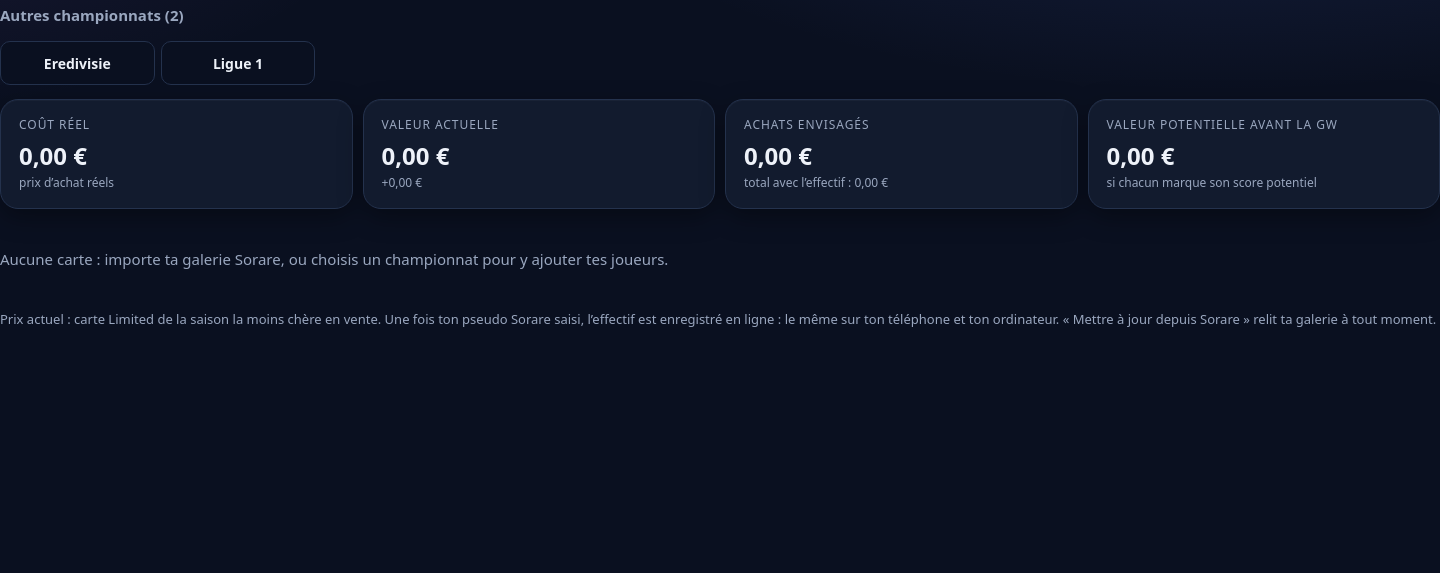
Mon effectif › club puis joueurs cochés, prix d’achat, totaux, enregistrement dans le navigateur
Click the button "Eredivisie": (77, 63) [0,41,155,85]
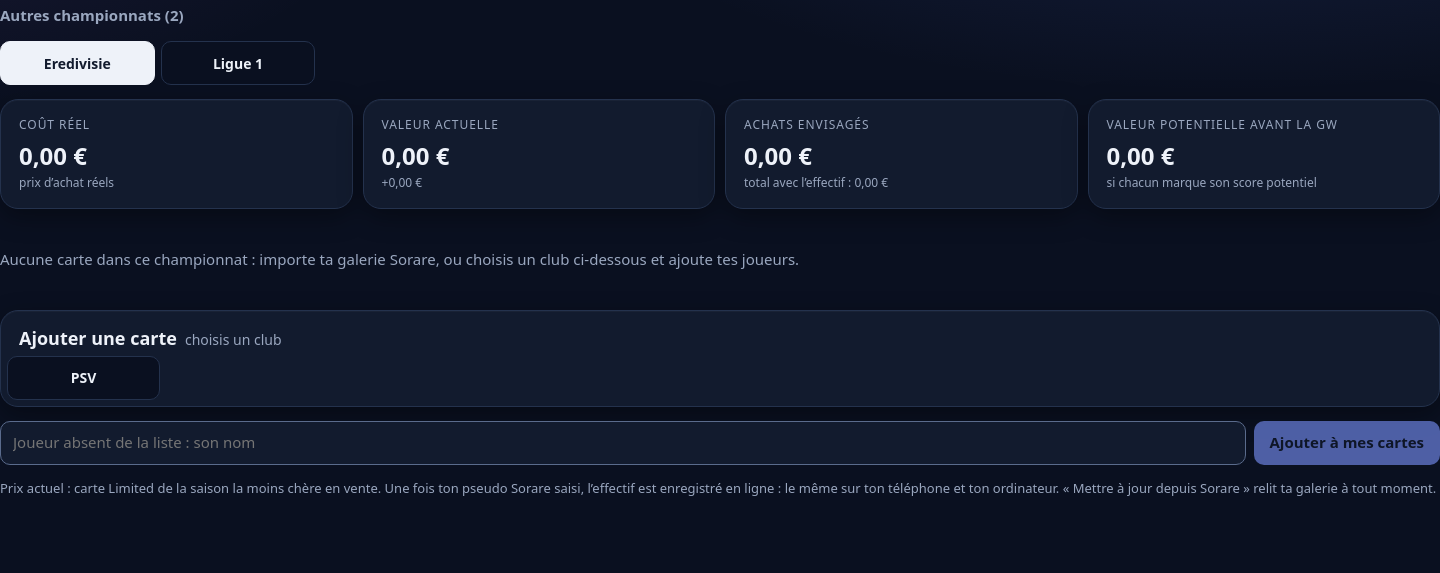
Click the button "PSV": (84, 378) [7,356,160,400]
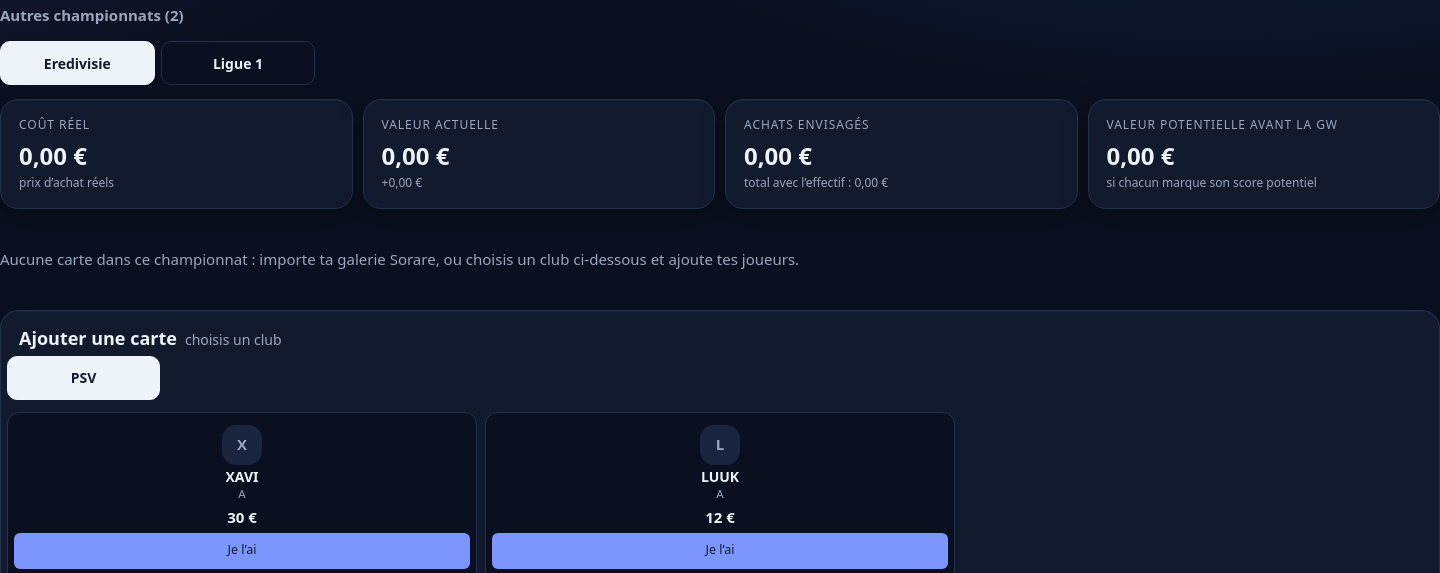
Check: the button "PSV" is pressed, box [7,356,160,400]
Click the button with aria-label "J’ai XAVI": (242, 551) [14,533,470,569]
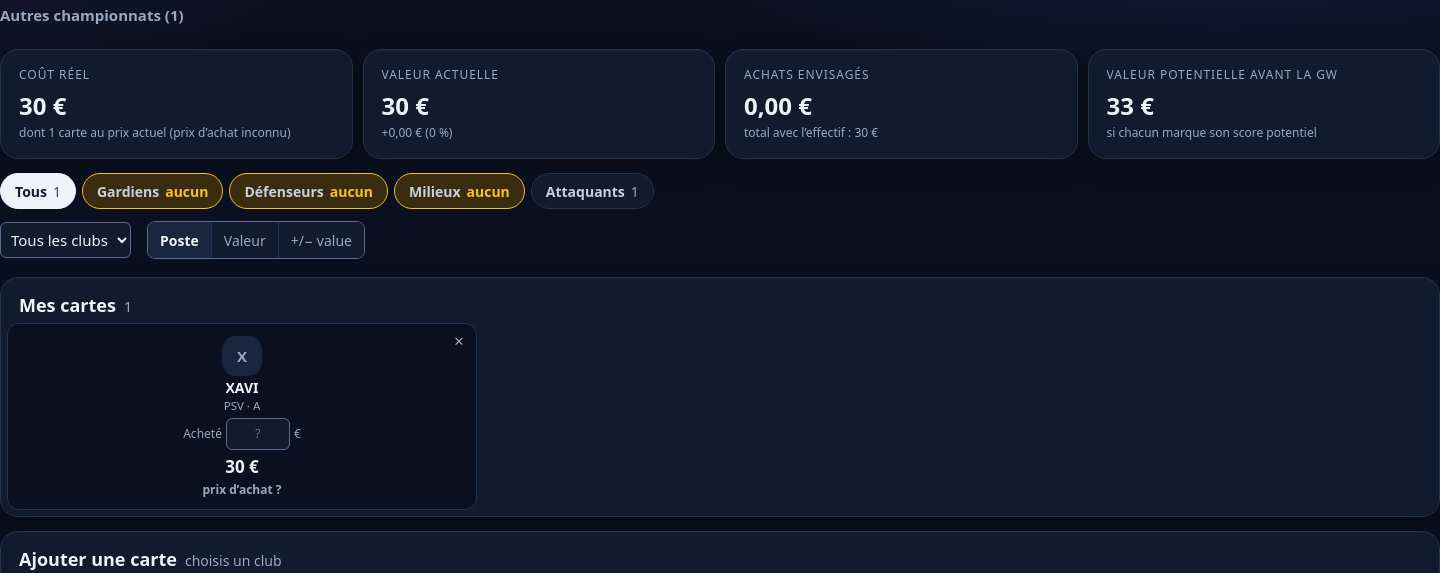
In the field named "Prix d’achat de XAVI": (258, 434) [226,418,290,450], type "22,5"
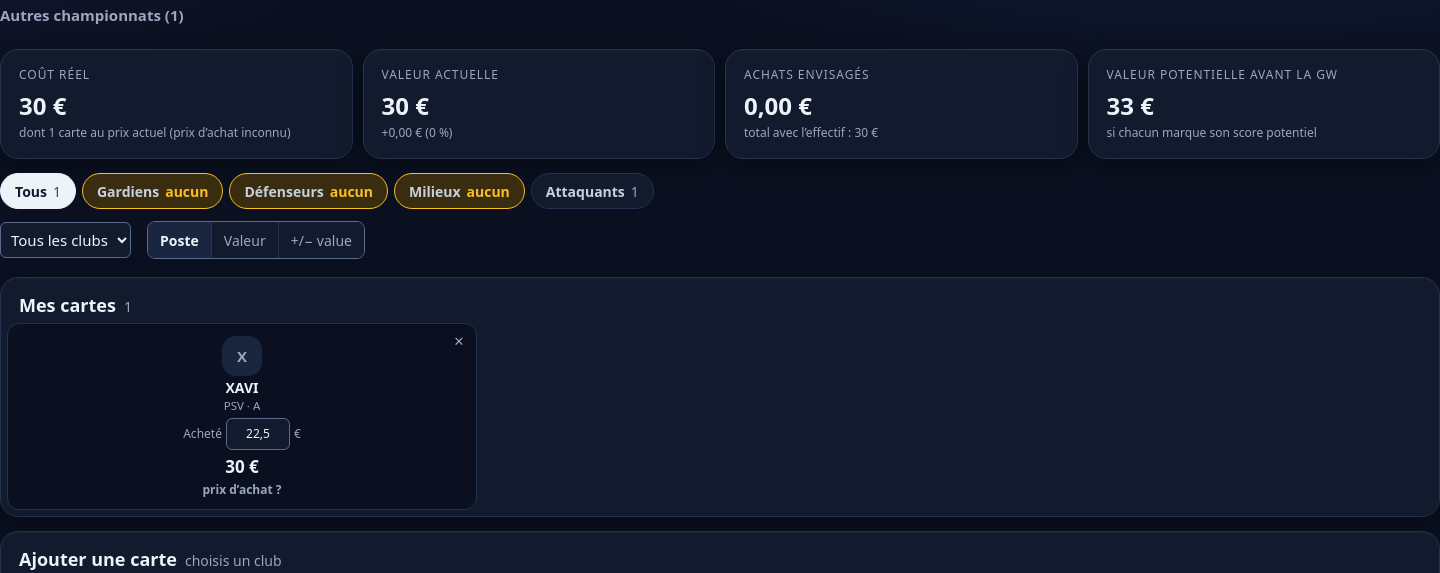
Leave the field named "Prix d’achat de XAVI", box [226,418,290,450]
(page scrolled)
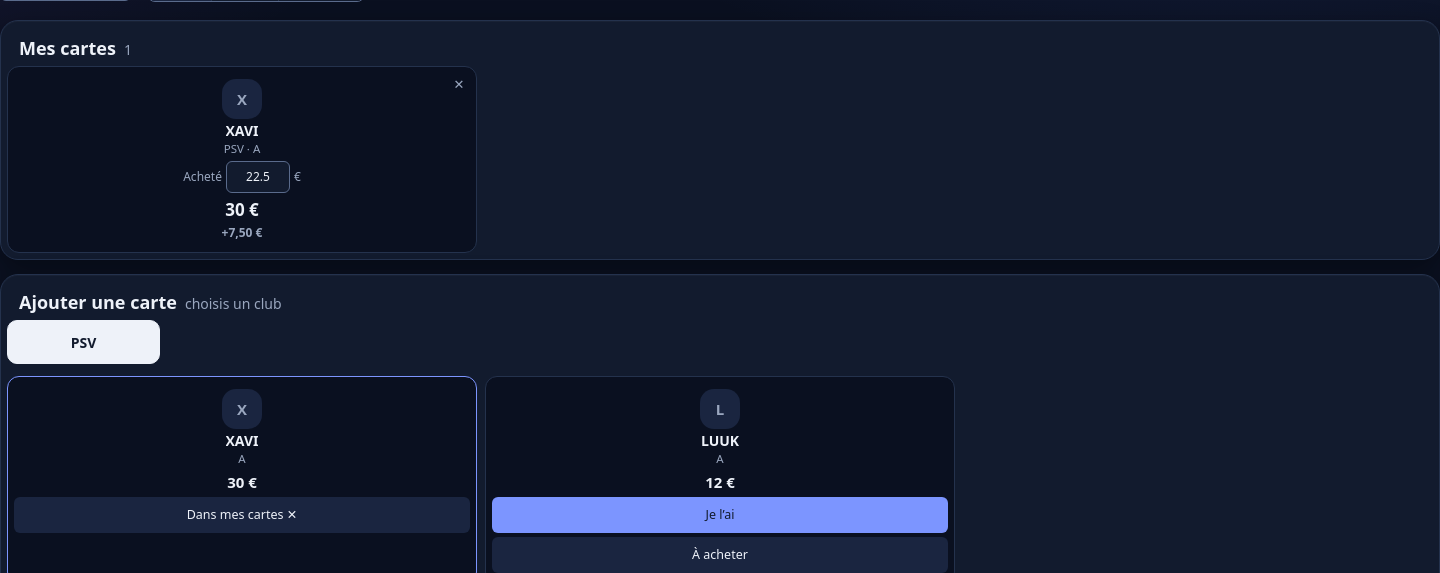
retirer depuis la liste du club
Click the button "Dans mes cartes ✕": (242, 516) [14,498,470,534]
(page scrolled)
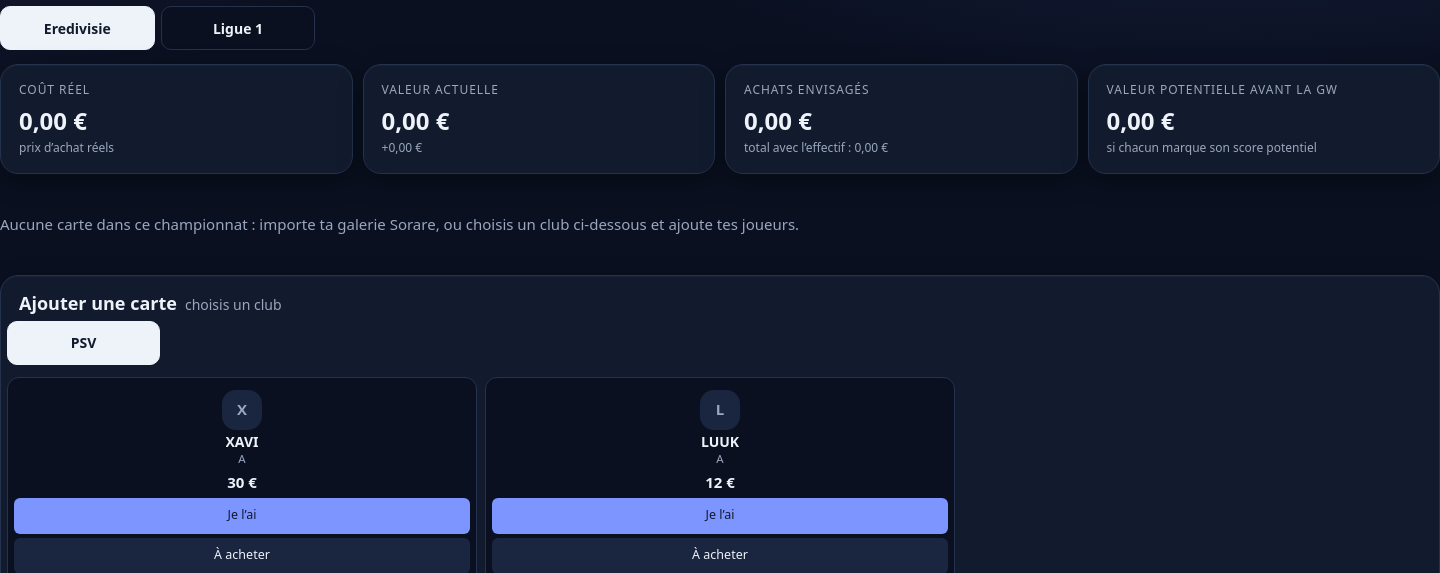
Check: the text "Aucune carte dans ce championnat" is shown, box [0,214,799,234]
